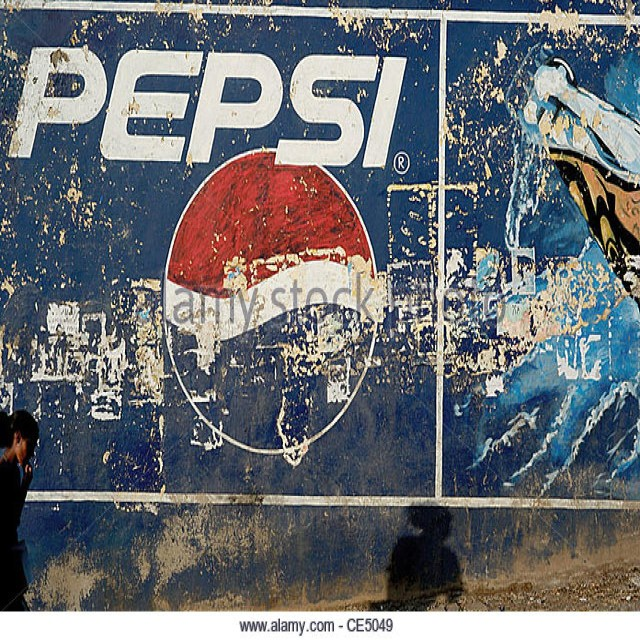pepsi: (160, 151, 386, 461)
